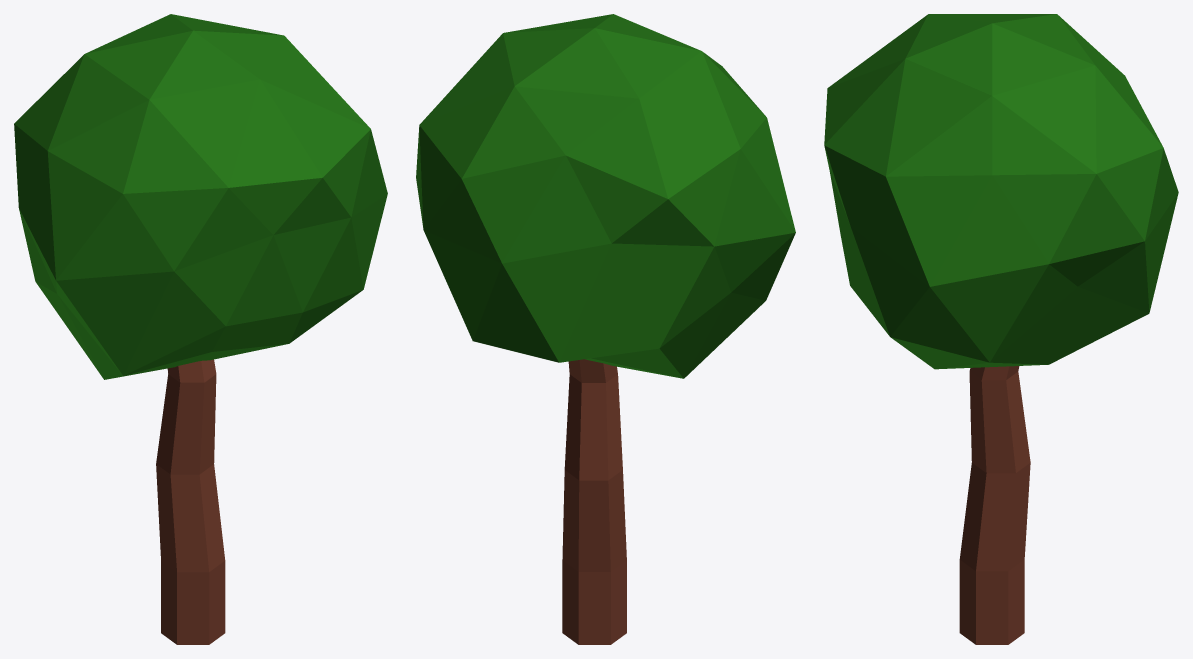
Rendered from TreeM.glb.
3 views of the same model, side by side, from view 1: azimuth 30°, elevation 25°; view 2: azimuth 150°, elevation 25°; view 3: azimuth 270°, elevation 25° (orthographic).
Parts seen in each view (by area): view 1: Icosphere, Cylinder.006; view 2: Icosphere, Cylinder.006; view 3: Icosphere, Cylinder.006.
Boxes of the visible parts, <box> form: Icosphere: <box>14,14,387,379</box>; Cylinder.006: <box>156,359,225,644</box>; Icosphere: <box>416,14,795,378</box>; Cylinder.006: <box>562,359,626,644</box>; Icosphere: <box>824,14,1178,369</box>; Cylinder.006: <box>959,366,1030,644</box>.
Size of the model in its own units: 4.79 by 8.28 by 4.36.
